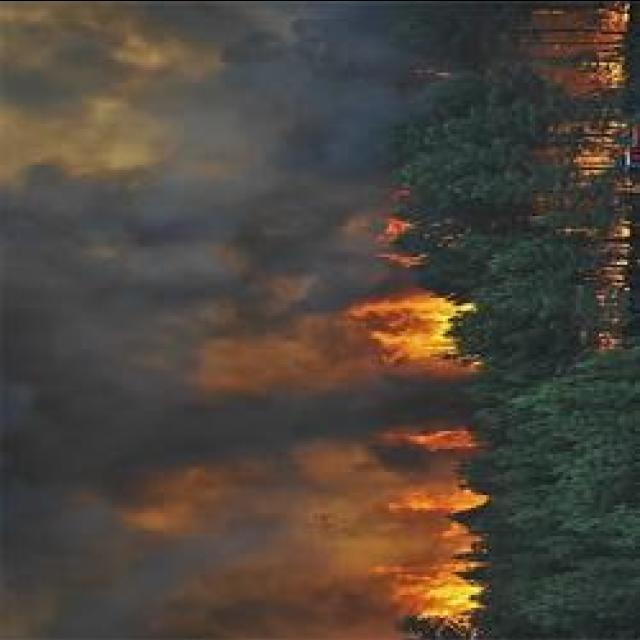fire: (345, 289, 466, 371), (409, 569, 482, 621)
smoke: (2, 148, 174, 300), (4, 434, 128, 640), (201, 20, 353, 169), (0, 0, 137, 128), (234, 188, 341, 310), (156, 583, 376, 640), (204, 382, 302, 480), (322, 524, 428, 580), (298, 435, 392, 489)
